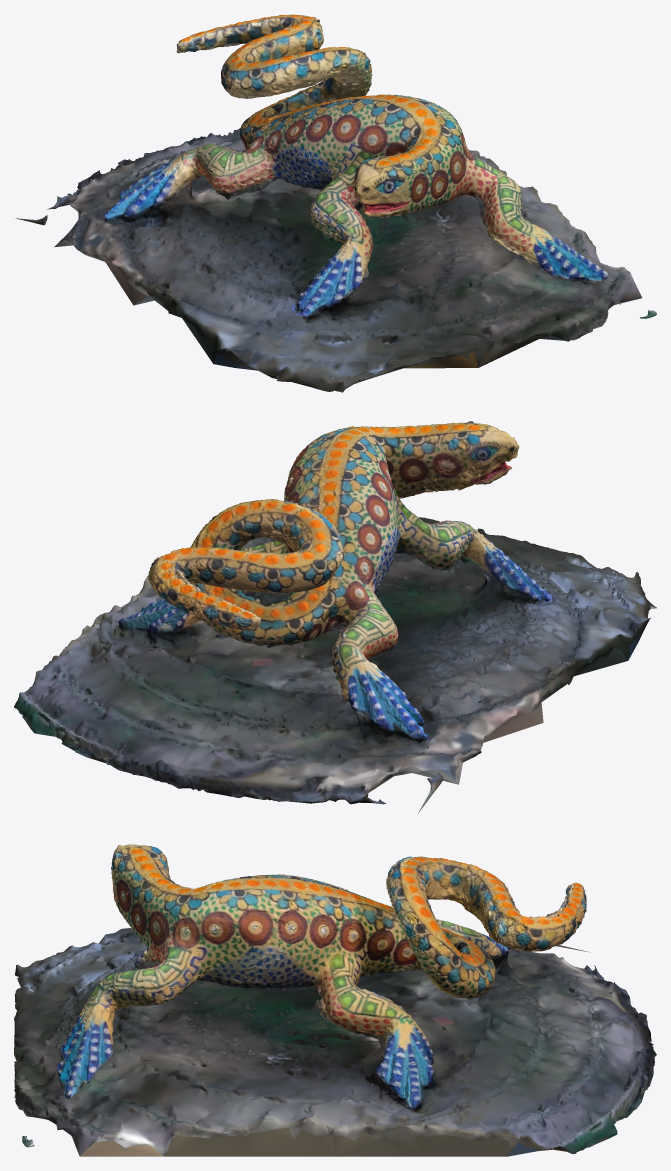
File: lagartija-alebrije.glb
3 renders of one model, top to bottom at view 1: azimuth 30°, elevation 25°; view 2: azimuth 150°, elevation 25°; view 3: azimuth 270°, elevation 25°, orthographic. The views are drawn at different scales.
Parts seen in each view (by area): view 1: Object_4; view 2: Object_4; view 3: Object_4.
Boxes of the visible parts, left/top/right/bottom form: Object_4: left=16, top=14, right=656, bottom=392; Object_4: left=14, top=421, right=656, bottom=813; Object_4: left=14, top=844, right=656, bottom=1156.
Bounding box in the file's own units: 0.2661 × 0.1169 × 0.3547.
Materials: 1 (1 with a texture image).
